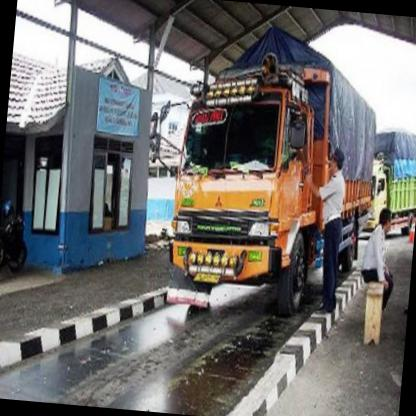truck: (166, 68, 320, 317)
